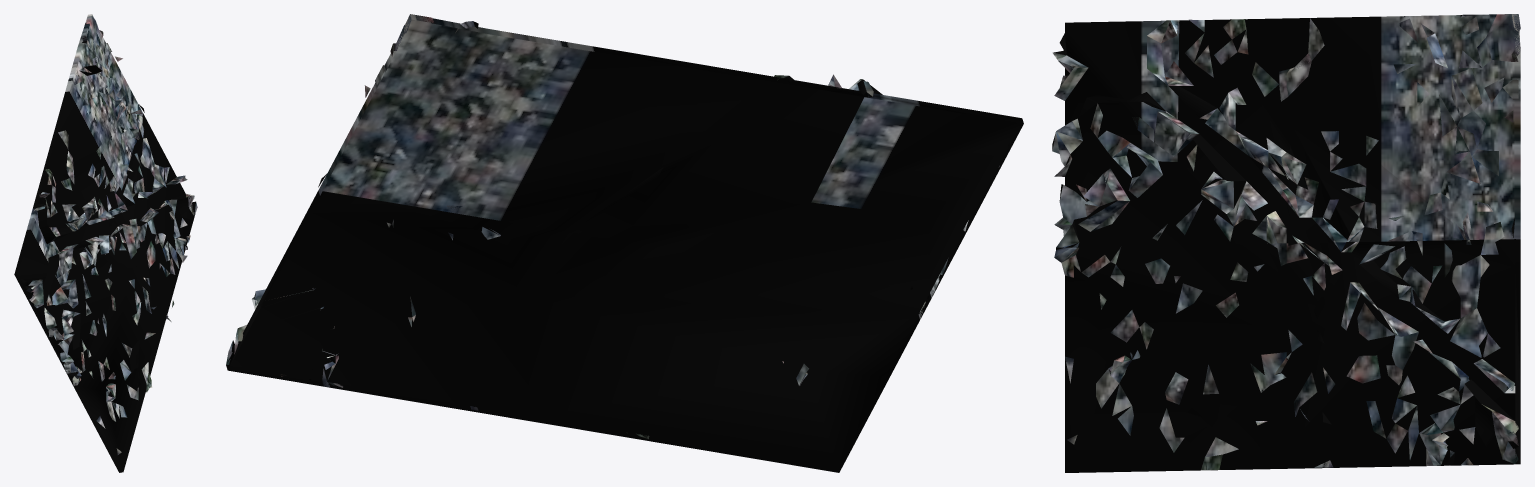
3 renders of one model, left to right at view 1: azimuth 30°, elevation 25°; view 2: azimuth 150°, elevation 25°; view 3: azimuth 270°, elevation 25°, orthographic. The views are drawn at different scales.
Parts seen in each view (by area): view 1: node_304362727043607_mesh0; view 2: node_304362727043607_mesh0; view 3: node_304362727043607_mesh0.
Part boxes in pixels (<box>): node_304362727043607_mesh0: <box>14,14,197,472</box>; node_304362727043607_mesh0: <box>226,14,1023,472</box>; node_304362727043607_mesh0: <box>1052,14,1520,472</box>.
Size of the model in its own units: 1163 by 1167 by 907.
1 material, 1 textured.
